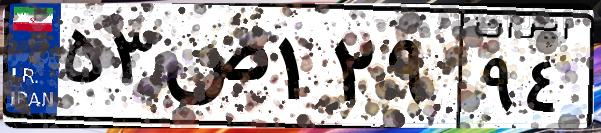1: (270, 28, 330, 110)
2: (330, 28, 385, 110)
3: (110, 28, 158, 98)
4: (525, 38, 570, 115)
5: (57, 26, 110, 100)
9: (385, 28, 445, 110), (475, 38, 525, 113)
ص: (158, 20, 270, 120)
